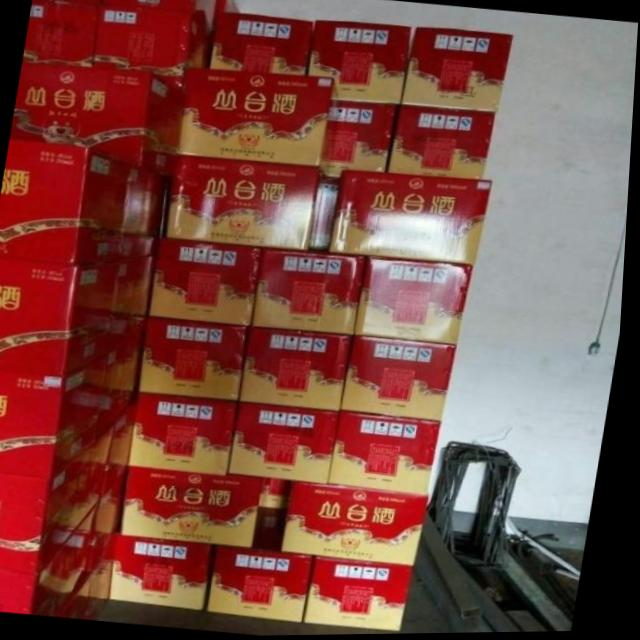box: (0, 409, 137, 570), (0, 140, 172, 263), (0, 255, 153, 378), (0, 348, 144, 475), (12, 66, 175, 177), (0, 481, 130, 620), (177, 68, 342, 173), (331, 171, 494, 266), (159, 154, 320, 250), (128, 465, 277, 548), (288, 482, 434, 566), (359, 256, 477, 347), (214, 522, 319, 621), (242, 324, 359, 411), (255, 249, 371, 336), (150, 238, 266, 325), (93, 6, 214, 89), (400, 28, 514, 115), (346, 338, 461, 423), (335, 411, 446, 496), (133, 391, 243, 474), (235, 402, 346, 483), (309, 20, 416, 104), (146, 317, 252, 401), (388, 104, 498, 179), (312, 557, 423, 630), (116, 536, 222, 612), (210, 11, 315, 76), (328, 98, 399, 173), (23, 1, 97, 70), (102, 0, 215, 36), (215, 0, 241, 13)
